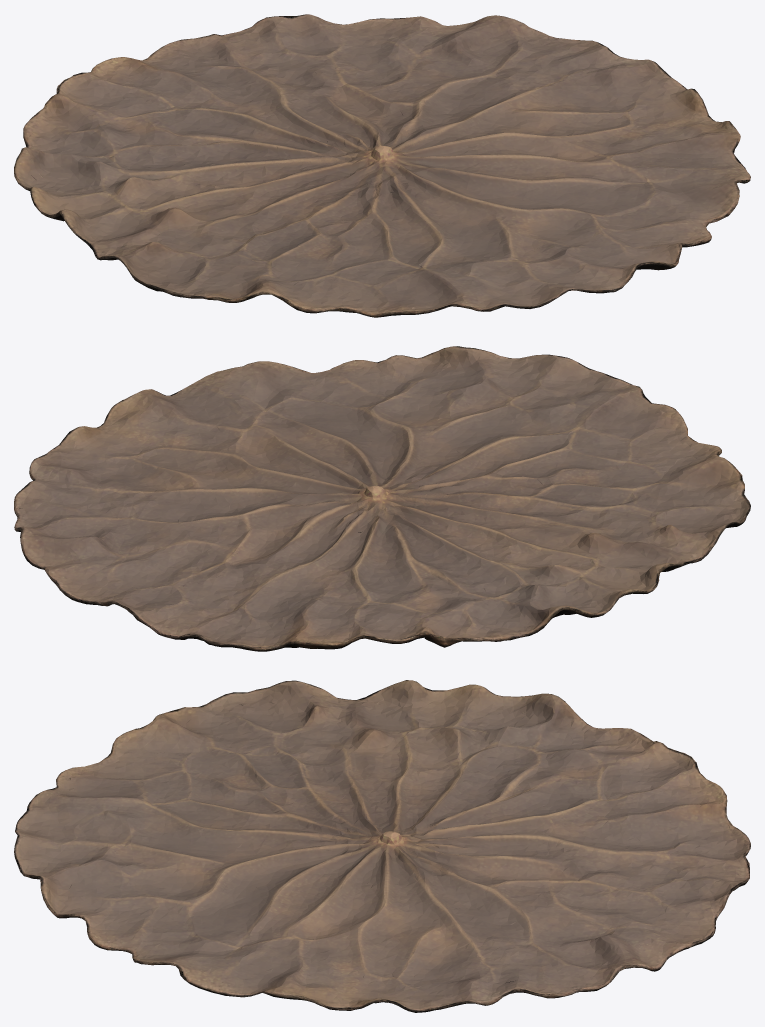
3 views of the same model, one above another, from view 1: azimuth 30°, elevation 25°; view 2: azimuth 150°, elevation 25°; view 3: azimuth 270°, elevation 25° (orthographic). The views are drawn at different scales.
Visible parts, largest first — view 1: world; view 2: world; view 3: world.
Part boxes in pixels (x1=…): world: x1=14, y1=14, x2=750, y2=317; world: x1=14, y1=346, x2=750, y2=651; world: x1=14, y1=680, x2=750, y2=1012.
Size of the model in its own units: 0.9652 by 0.0565 by 0.9916.
1 material, 1 textured.
